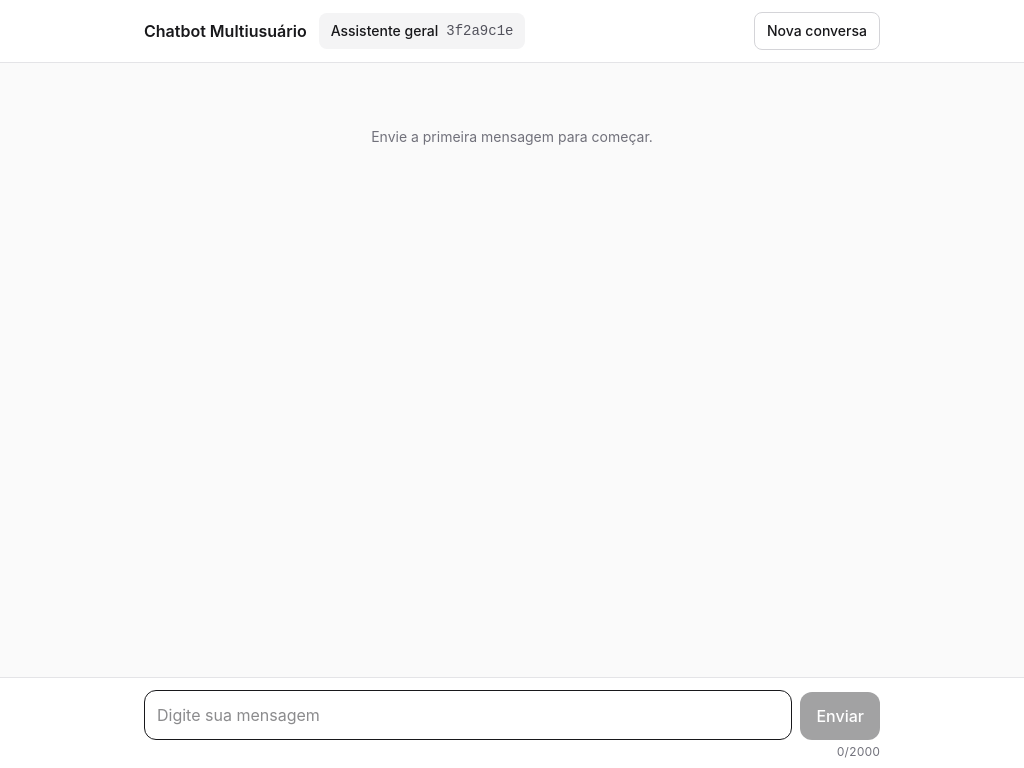
it: erros e sessão expirada › 503 ao enviar mostra a mensagem da API e "Tentar de novo" reenvia o mesmo texto
Type "Pergunta importante" into the text box labelled "mensagem". click: (468, 715)
box: [144,690,792,740]
Then press Enter
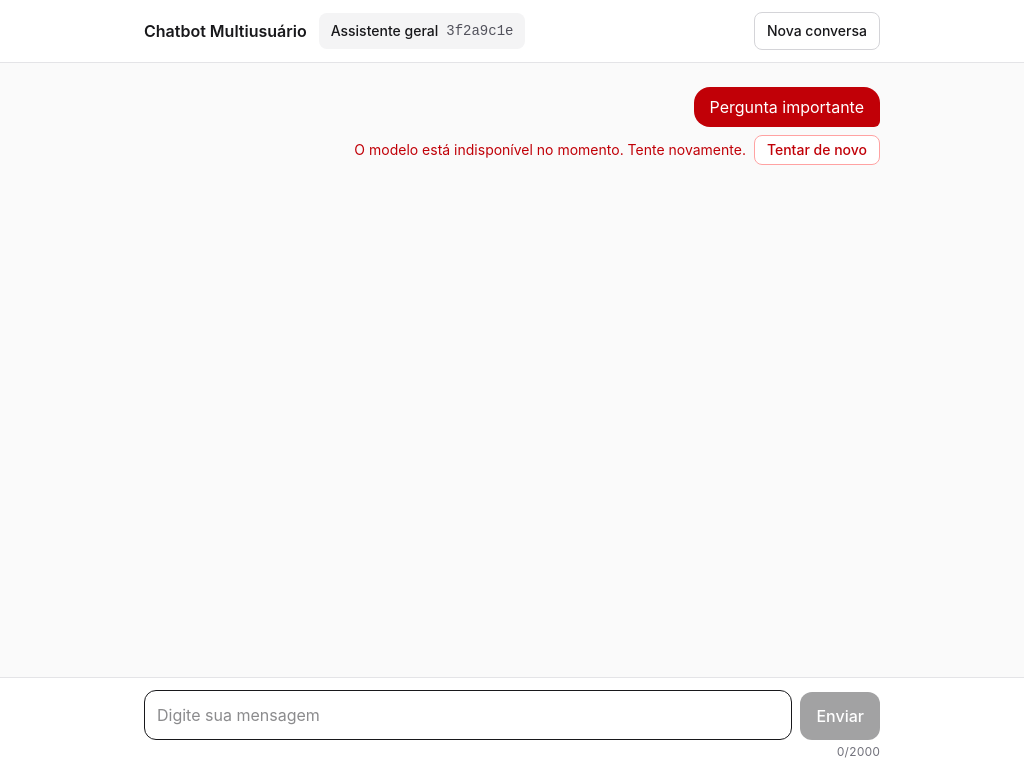
Expected: the text "O modelo está indisponível no momento. Tente novamente." is shown, [354,140,746,160]
Click the button "Tentar de novo". click: (817, 150)
box: [754,135,880,165]
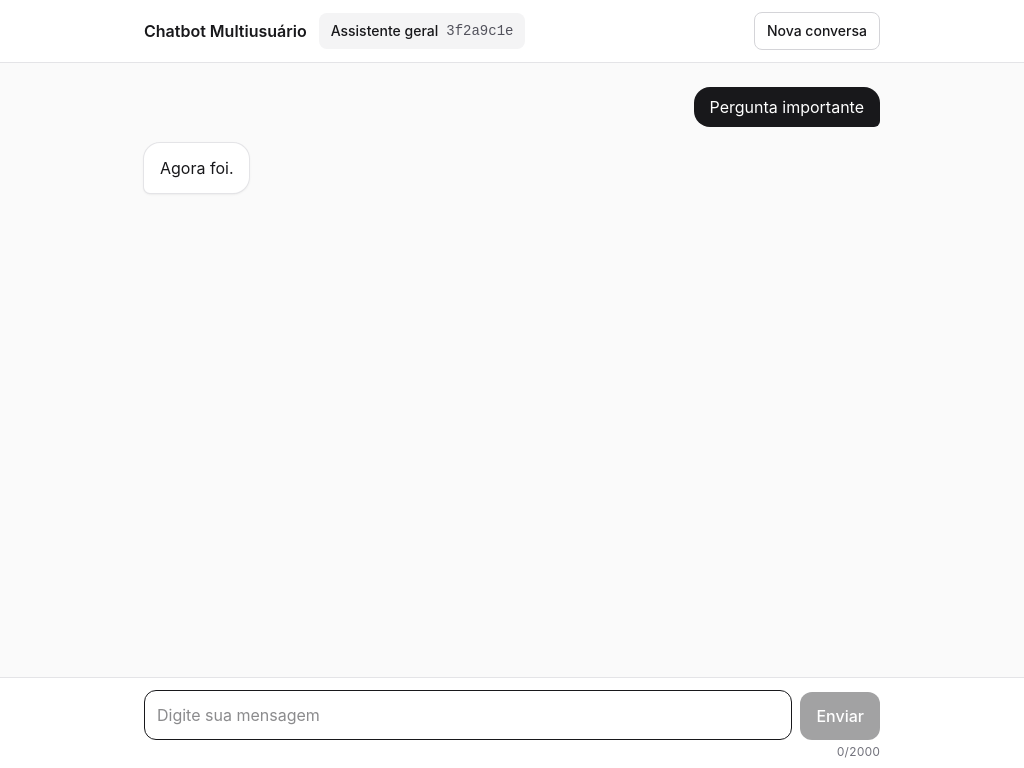
Expected: the text "Pergunta importante" is shown once, [694,87,880,127]
Expected: the text "Agora foi." is shown, [160,155,234,181]
Expected: the text "O modelo está indisponível no momento. Tente novamente." is gone
